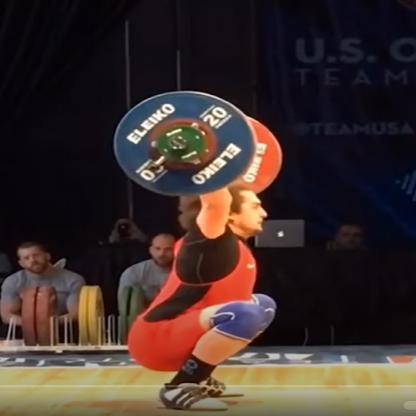barbell: (113, 88, 282, 197)
